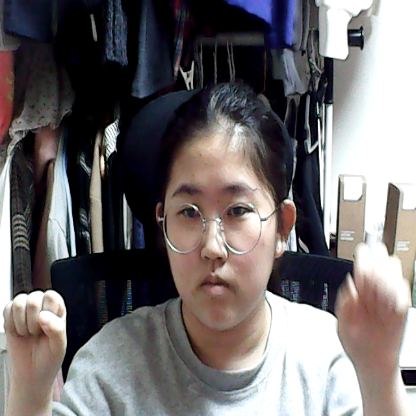Finger_0: (326, 239, 416, 367), (1, 275, 78, 382)
